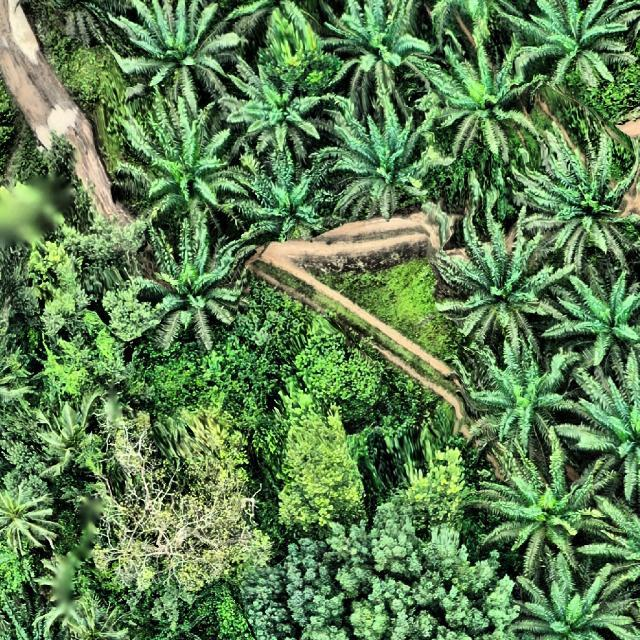Kelapa_Sawit: (437, 237, 558, 358), (118, 0, 244, 114), (525, 130, 639, 253), (128, 117, 236, 233), (454, 333, 562, 447), (142, 250, 248, 358), (486, 453, 592, 561), (548, 361, 640, 483), (425, 61, 527, 161), (511, 559, 624, 640), (532, 0, 634, 89), (244, 159, 333, 255), (339, 113, 422, 214), (339, 0, 428, 88), (232, 78, 326, 160), (567, 274, 640, 362), (586, 484, 640, 589)
